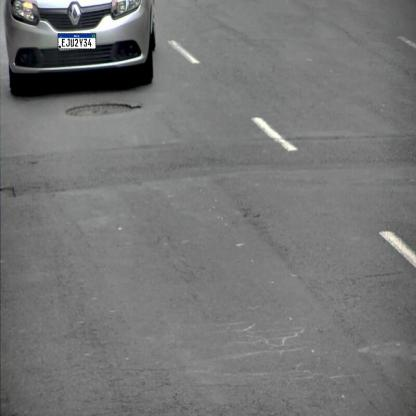PlacaM: (58, 34, 96, 50)
